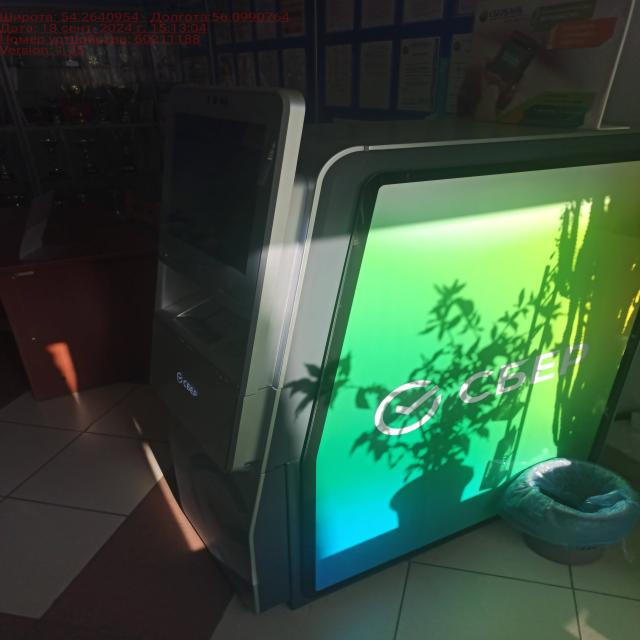bank: (141, 74, 640, 612)
